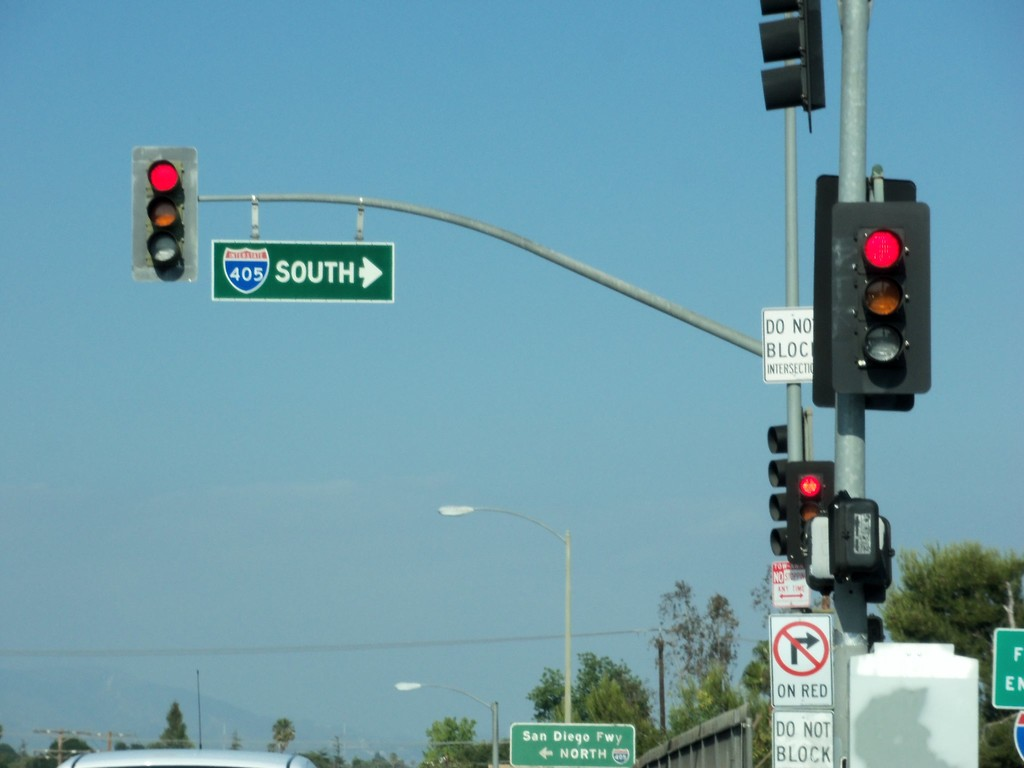red_light: (857, 223, 904, 379), (140, 157, 186, 267), (799, 470, 828, 561)
